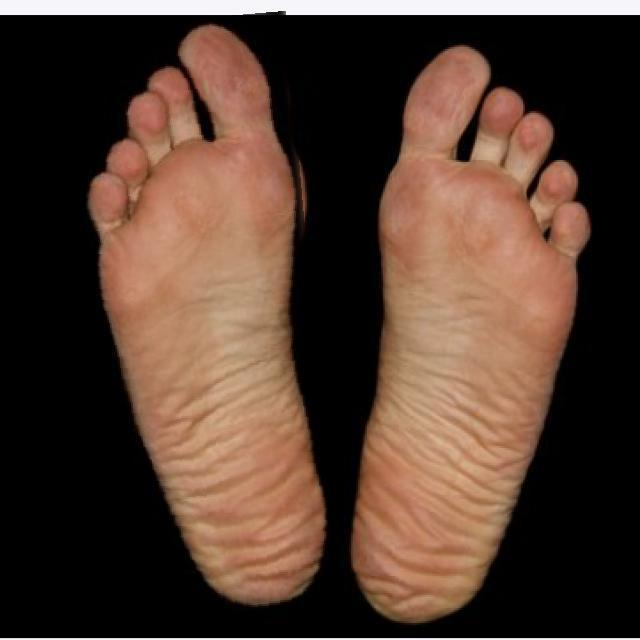No_Shoes: (354, 22, 594, 629), (87, 39, 338, 619)
